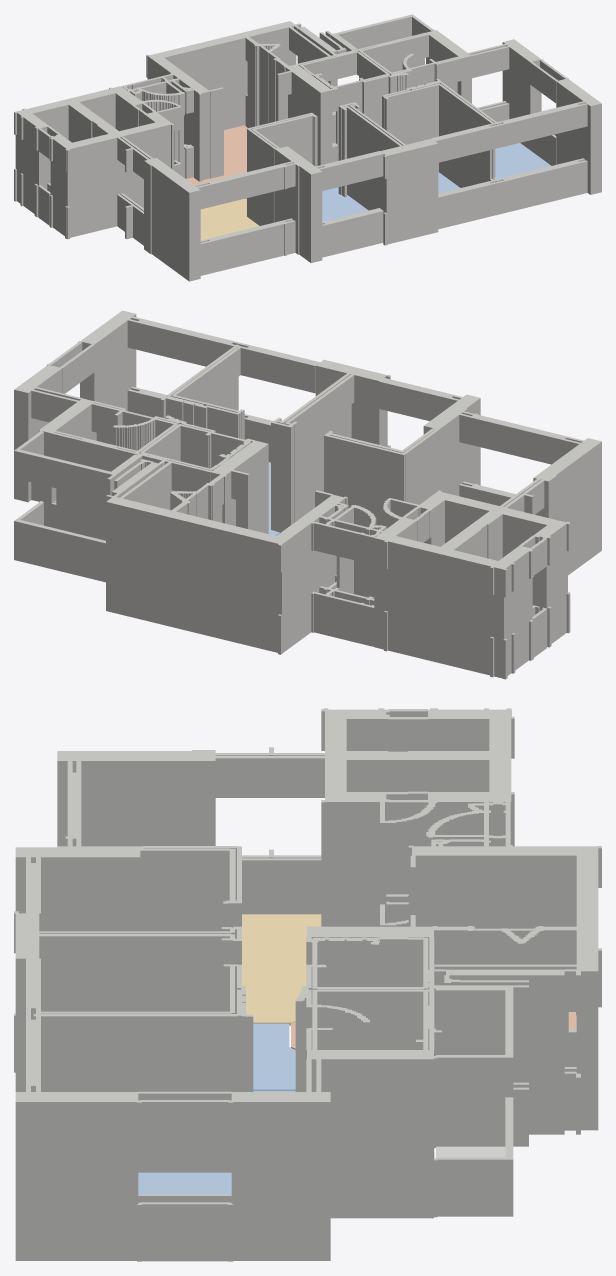
3 views of the same model, one above another, from view 1: azimuth 30°, elevation 25°; view 2: azimuth 150°, elevation 25°; view 3: azimuth 270°, elevation 25° (orthographic). The views are drawn at different scales.
Parts seen in each view (by area): view 1: walls, room:living:5, room:bedroom:7, room:kitchen:0, room:bedroom:10; view 2: walls; view 3: walls, room:living:5, room:bedroom:10, room:bedroom:7, room:ledge:2.
Part boxes in pixels (x1=…): walls: x1=14, y1=14, x2=601, y2=281; room:living:5: x1=200, y1=198, x2=259, y2=240; room:bedroom:7: x1=495, y1=143, x2=550, y2=179; room:kitchen:0: x1=185, y1=125, x2=247, y2=198; room:bedroom:10: x1=322, y1=187, x2=368, y2=221; walls: x1=14, y1=310, x2=601, y2=679; walls: x1=14, y1=708, x2=601, y2=1261; room:living:5: x1=242, y1=914, x2=321, y2=1025; room:bedroom:10: x1=253, y1=1023, x2=295, y2=1090; room:bedroom:7: x1=138, y1=1172, x2=231, y2=1193; room:ledge:2: x1=436, y1=1146, x2=505, y2=1157.
Bounding box in the file's own units: 14.88 × 2.8 × 9.38.
